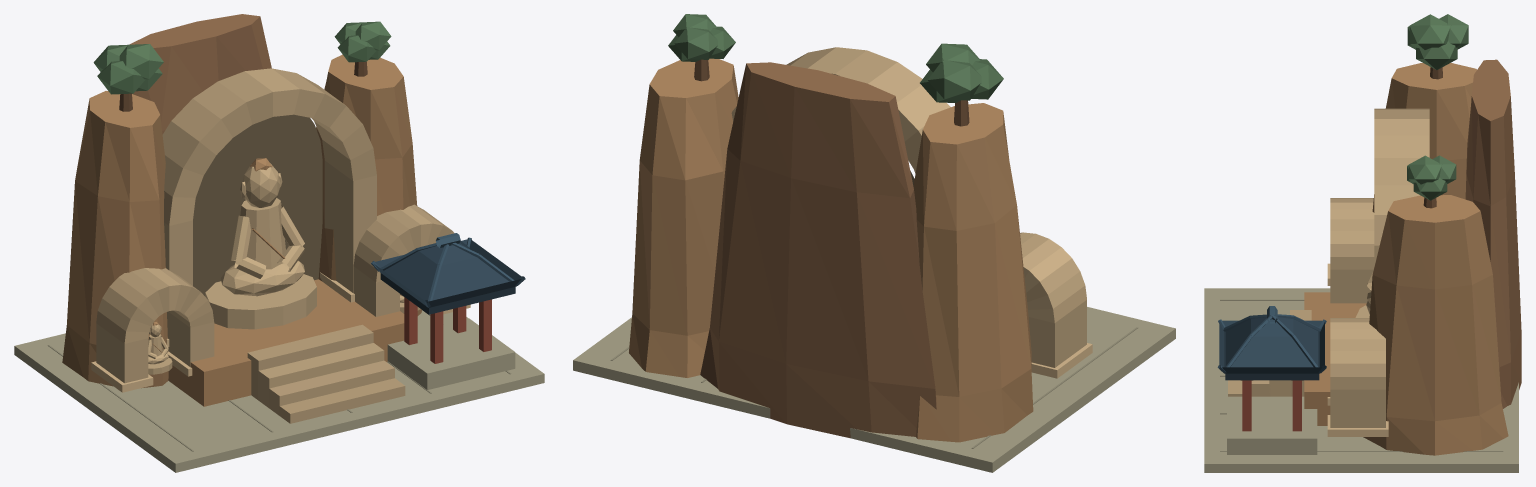
The picture shows the model from 3 angles, left to right: view 1: azimuth 30°, elevation 25°; view 2: azimuth 150°, elevation 25°; view 3: azimuth 270°, elevation 25°; orthographic projection. The views are drawn at different scales.
Visible parts, largest first — view 1: S31_长安 · 石窟台地; view 2: S31_长安 · 石窟台地; view 3: S31_长安 · 石窟台地.
Boxes of the visible parts, x1,y1,x2,y2 form: S31_长安 · 石窟台地: [14, 14, 544, 472]; S31_长安 · 石窟台地: [573, 14, 1175, 472]; S31_长安 · 石窟台地: [1204, 14, 1521, 472].
Size of the model in its own units: 4.65 by 3.88 by 3.55.
